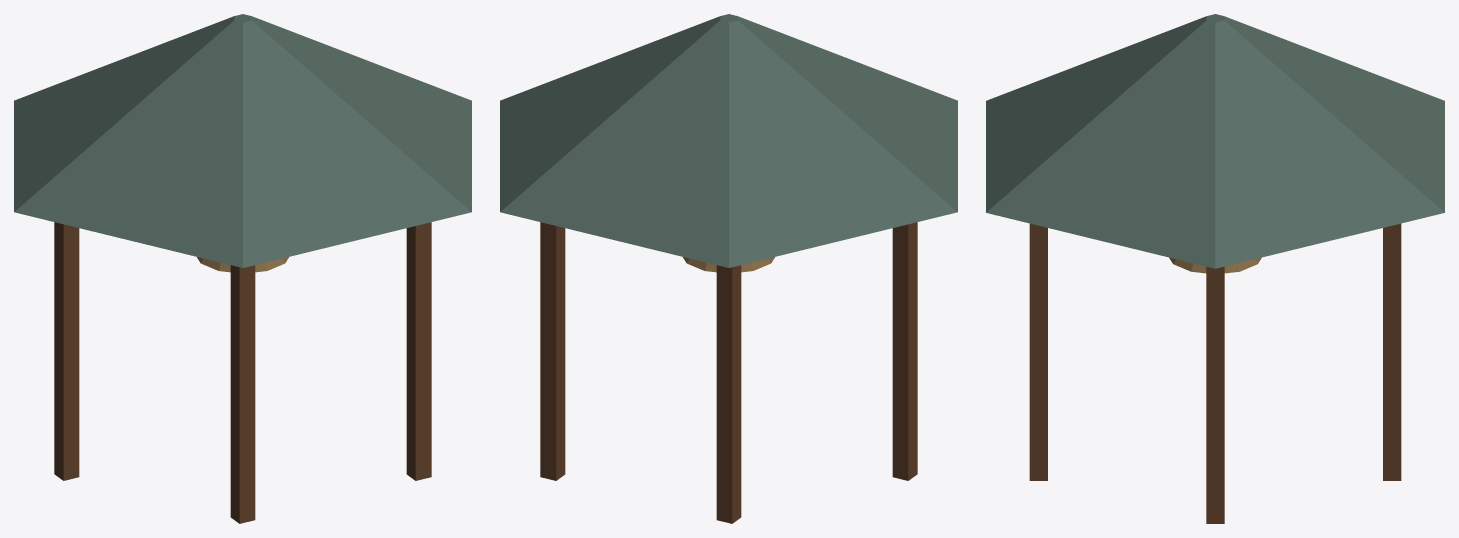
File: Building_Settlement_HexagonalBellGazebo_001.glb
The picture shows the model from 3 angles, left to right: view 1: azimuth 30°, elevation 25°; view 2: azimuth 150°, elevation 25°; view 3: azimuth 270°, elevation 25°; orthographic projection.
Visible parts, largest first — view 1: Building_Settlement_HexagonalBellGazebo_001; view 2: Building_Settlement_HexagonalBellGazebo_001; view 3: Building_Settlement_HexagonalBellGazebo_001.
Boxes of the visible parts, bbox=[...] form: Building_Settlement_HexagonalBellGazebo_001: bbox=[14, 14, 471, 523]; Building_Settlement_HexagonalBellGazebo_001: bbox=[500, 14, 957, 523]; Building_Settlement_HexagonalBellGazebo_001: bbox=[986, 14, 1444, 523].
Bounding box in the file's own units: 5.2 × 4.5 × 4.5.
